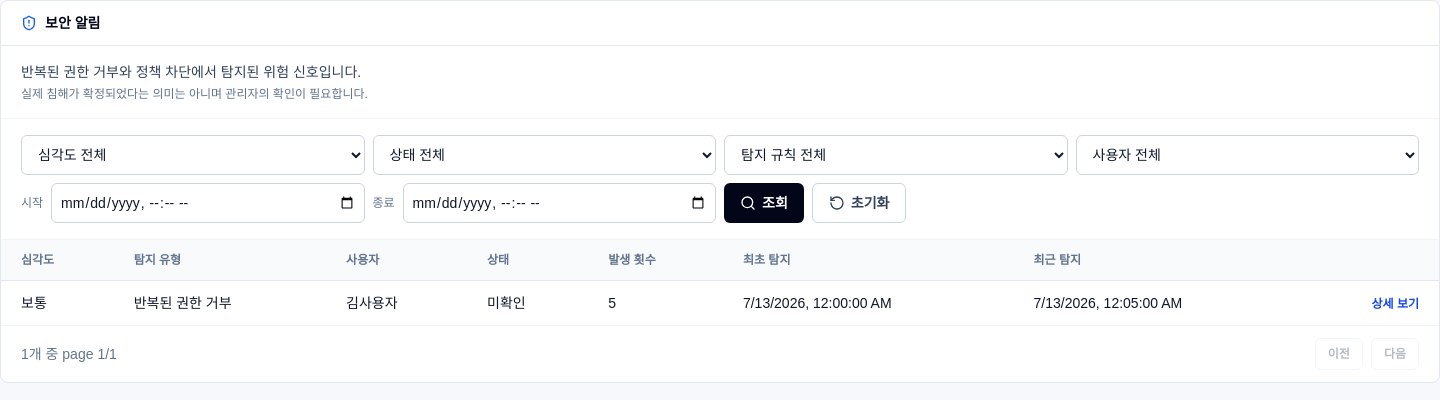
Test: SecurityAlertsTab › 403이면 cached 목록을 지우고 관리 권한 안내를 표시한다
Expected: the table is shown, left=1, top=240, right=1439, bottom=325
Click the button "조회".
click(764, 203)  # box left=724, top=183, right=804, bottom=223
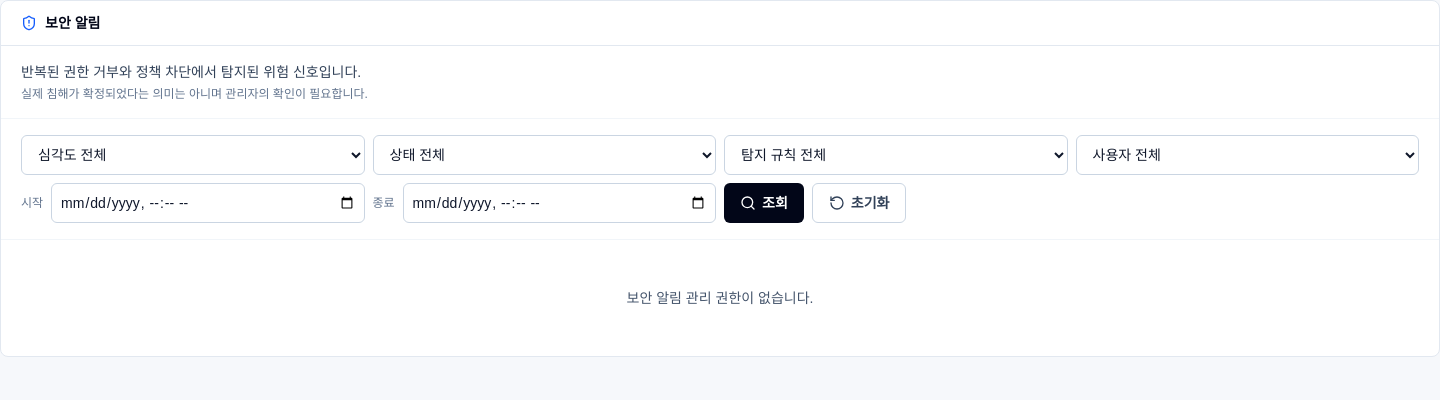
Expected: the text "보안 알림 관리 권한이 없습니다." is shown, left=626, top=290, right=813, bottom=306
Expected: the table is gone
